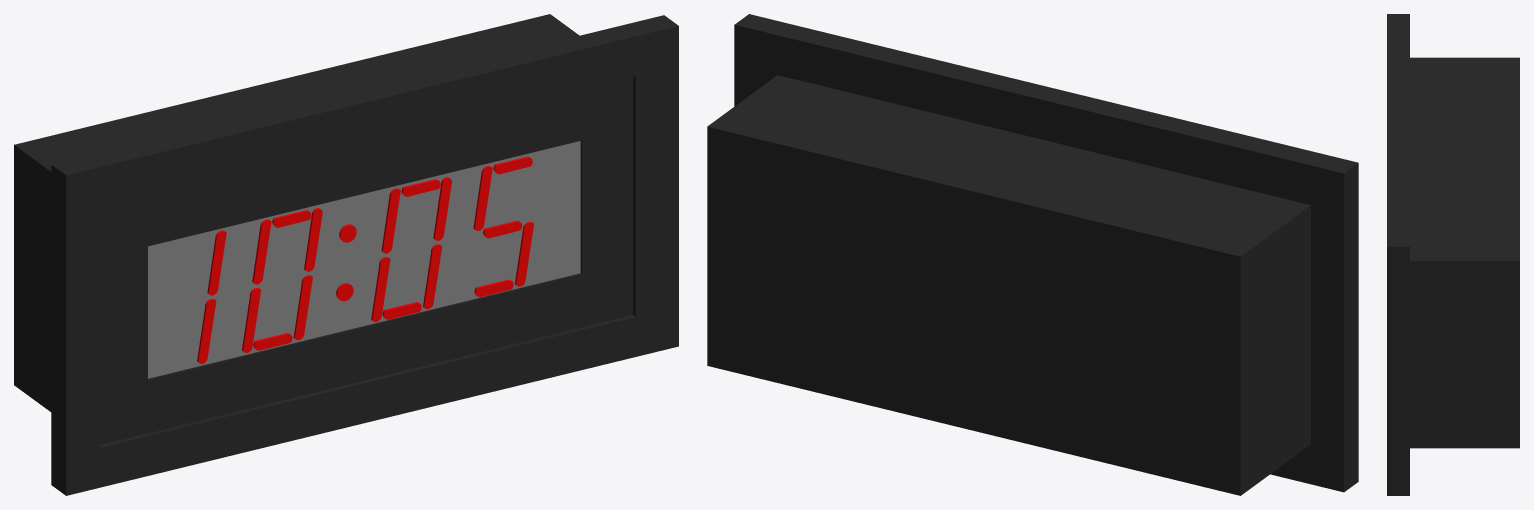
Rendered from clock.fbx.
3 renders of one model, left to right at view 1: azimuth 30°, elevation 25°; view 2: azimuth 150°, elevation 25°; view 3: azimuth 270°, elevation 25°, orthographic. The views are drawn at different scales.
Visible parts, largest first — view 1: Rauland - Flush mounted - model 2521 Rauland - Flush mo_632c; view 2: Rauland - Flush mounted - model 2521 Rauland - Flush mo_632c; view 3: Rauland - Flush mounted - model 2521 Rauland - Flush mo_632c.
Boxes of the visible parts, x1,y1,x2,y2 form: Rauland - Flush mounted - model 2521 Rauland - Flush mo_632c: (14, 14, 678, 495); Rauland - Flush mounted - model 2521 Rauland - Flush mo_632c: (707, 14, 1358, 495); Rauland - Flush mounted - model 2521 Rauland - Flush mo_632c: (1387, 14, 1519, 495).
Size of the model in its own units: 30.48 by 15.24 by 7.36.
